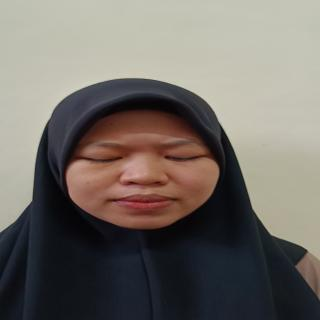Sedih: (51, 101, 231, 232)
